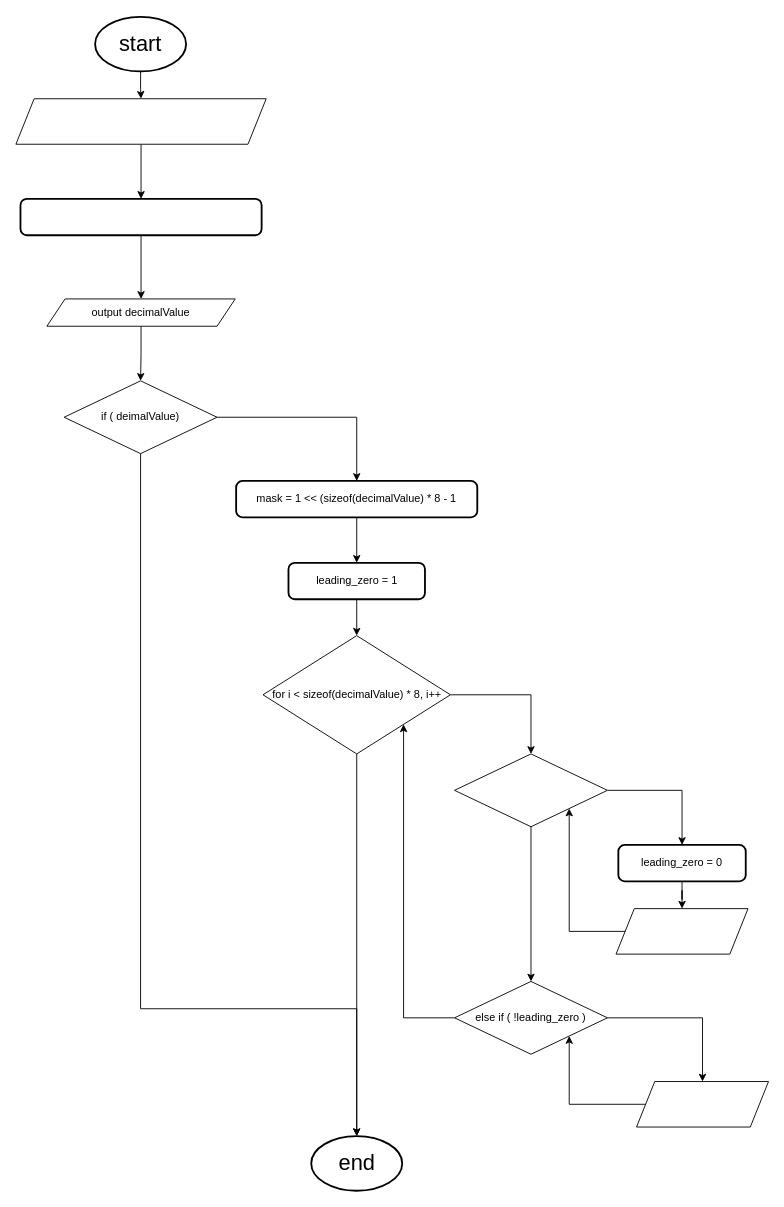
This 784x1207 diagram has some shape labels left out. The box of each missing label's shape, as (x1, y1, x2, y2) in pixels:
decimalValue = ( int )strtol(hexInput, NULL, 16): (19, 197, 262, 236)
if ( decimalValue & mask ): (454, 753, 607, 827)
input hexInput: (15, 98, 266, 144)
output "0": (636, 1081, 768, 1127)
output "1": (615, 908, 748, 954)
